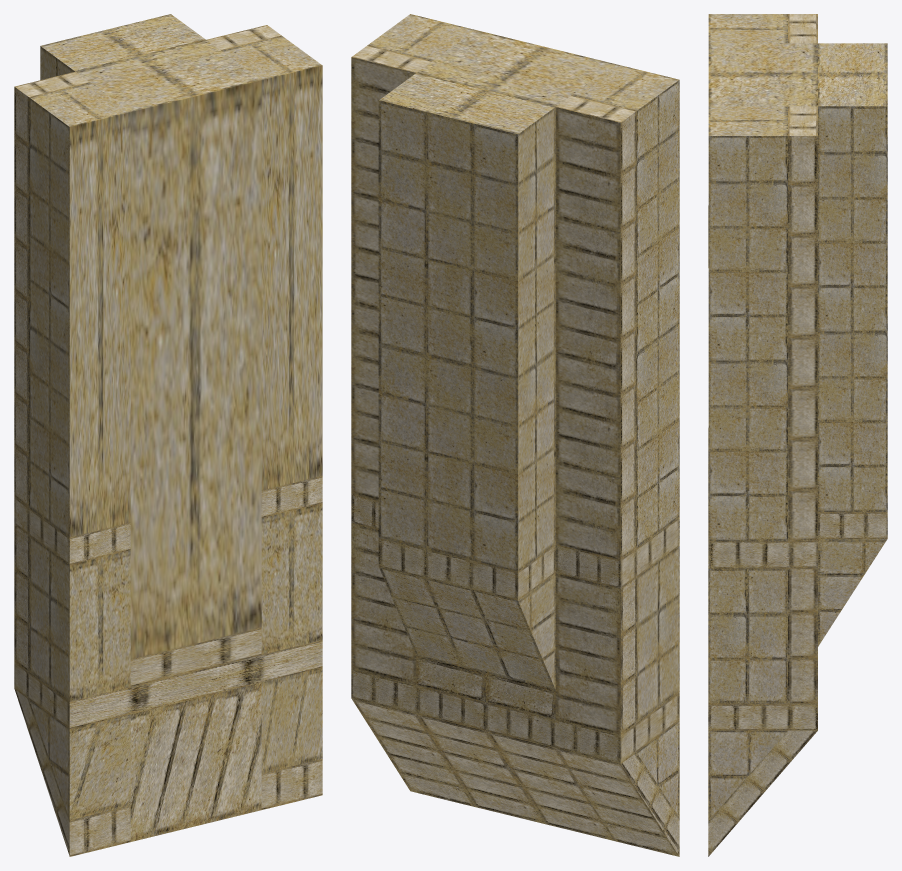
The model's file is desert_thin_platform_support.dae.
The picture shows the model from 3 angles, left to right: view 1: azimuth 30°, elevation 25°; view 2: azimuth 150°, elevation 25°; view 3: azimuth 270°, elevation 25°; orthographic projection. The views are drawn at different scales.
Visible parts, largest first — view 1: desert_thin_platform_support; view 2: desert_thin_platform_support; view 3: desert_thin_platform_support.
Boxes of the visible parts, <box> form: desert_thin_platform_support: <box>14,14,322,856</box>; desert_thin_platform_support: <box>351,14,679,856</box>; desert_thin_platform_support: <box>708,14,887,856</box>.
Size of the model in its own units: 0.7136 by 0.443 by 1.97.
Materials: 2 (2 with a texture image).
